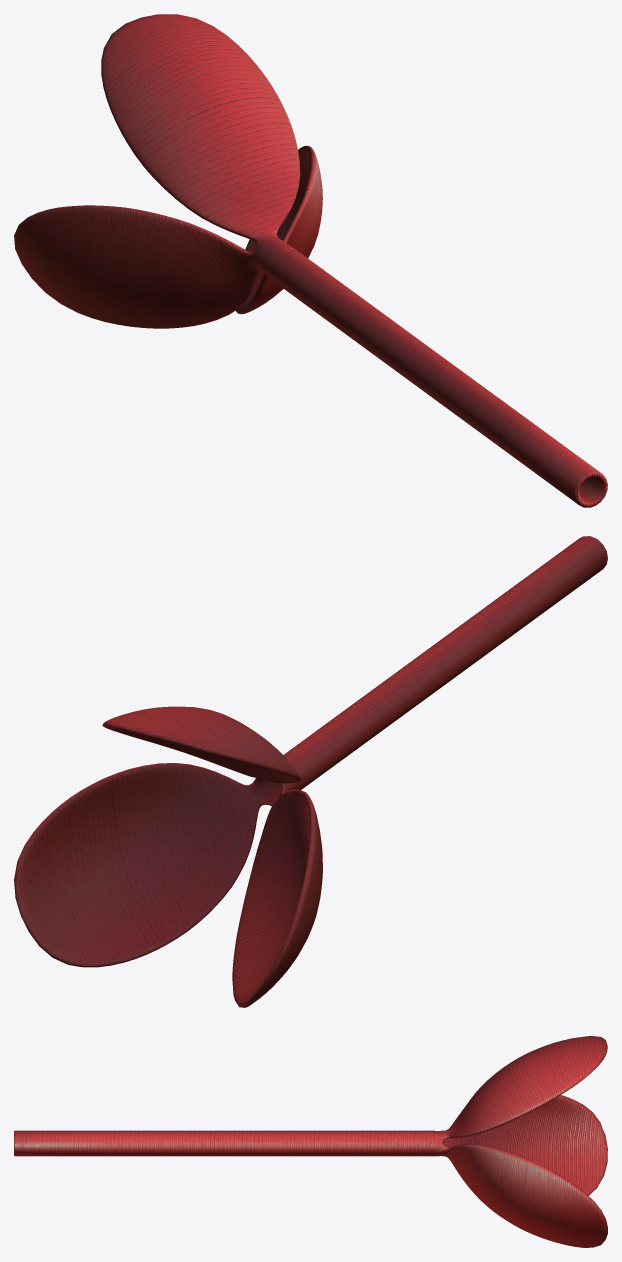
Rendered from 10_Flower.glb.
3 renders of one model, top to bottom at view 1: azimuth 30°, elevation 25°; view 2: azimuth 150°, elevation 25°; view 3: azimuth 270°, elevation 25°, orthographic. The views are drawn at different scales.
Parts seen in each view (by area): view 1: 10_Flower; view 2: 10_Flower; view 3: 10_Flower.
Boxes of the visible parts, <box> form: 10_Flower: <box>14,14,607,507</box>; 10_Flower: <box>14,536,607,1007</box>; 10_Flower: <box>14,1036,607,1247</box>.
Bounding box in the file's own units: 0.0729 × 0.068 × 0.2037.
1 material, 1 textured.
